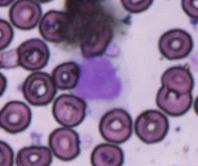M: (71, 54, 129, 102)
